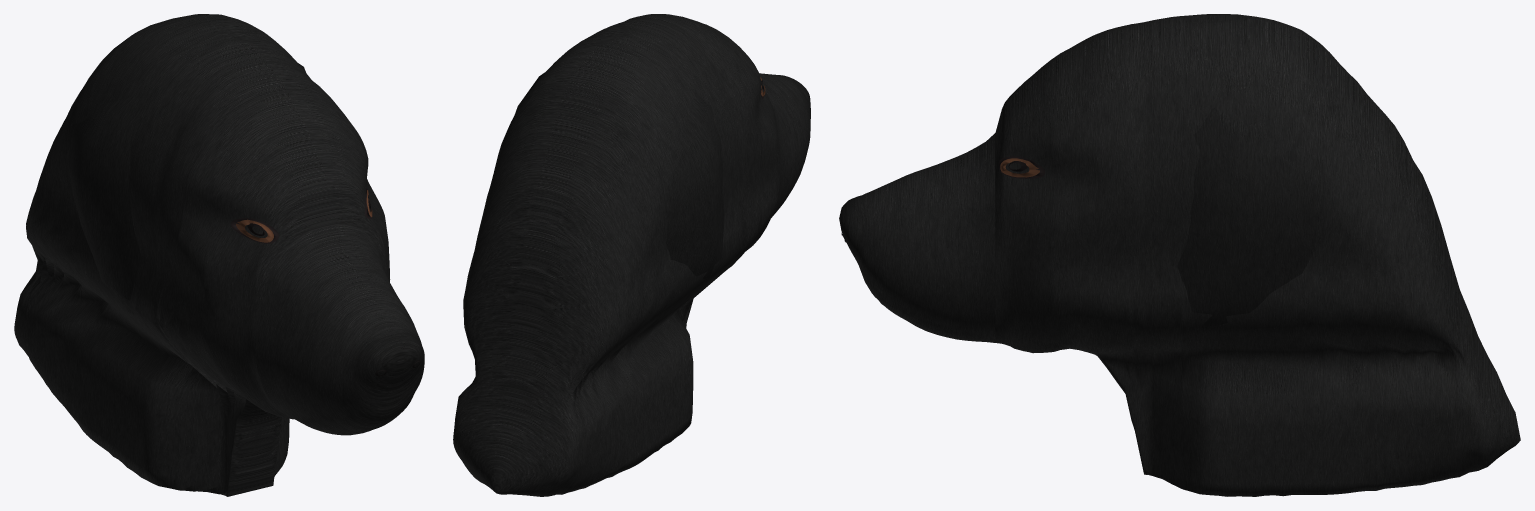
Rendered from labrador_head_refined.glb.
3 renders of one model, left to right at view 1: azimuth 30°, elevation 25°; view 2: azimuth 150°, elevation 25°; view 3: azimuth 270°, elevation 25°, orthographic. The views are drawn at different scales.
Visible parts, largest first — view 1: labrador_head_refined; view 2: labrador_head_refined; view 3: labrador_head_refined.
Part boxes in pixels (x1,y1,x2,y2): labrador_head_refined: [14, 14, 424, 496]; labrador_head_refined: [453, 14, 810, 496]; labrador_head_refined: [839, 14, 1520, 496].
Size of the model in its own units: 0.129 by 0.2284 by 0.3209.
Materials: 5 (1 with a texture image).
